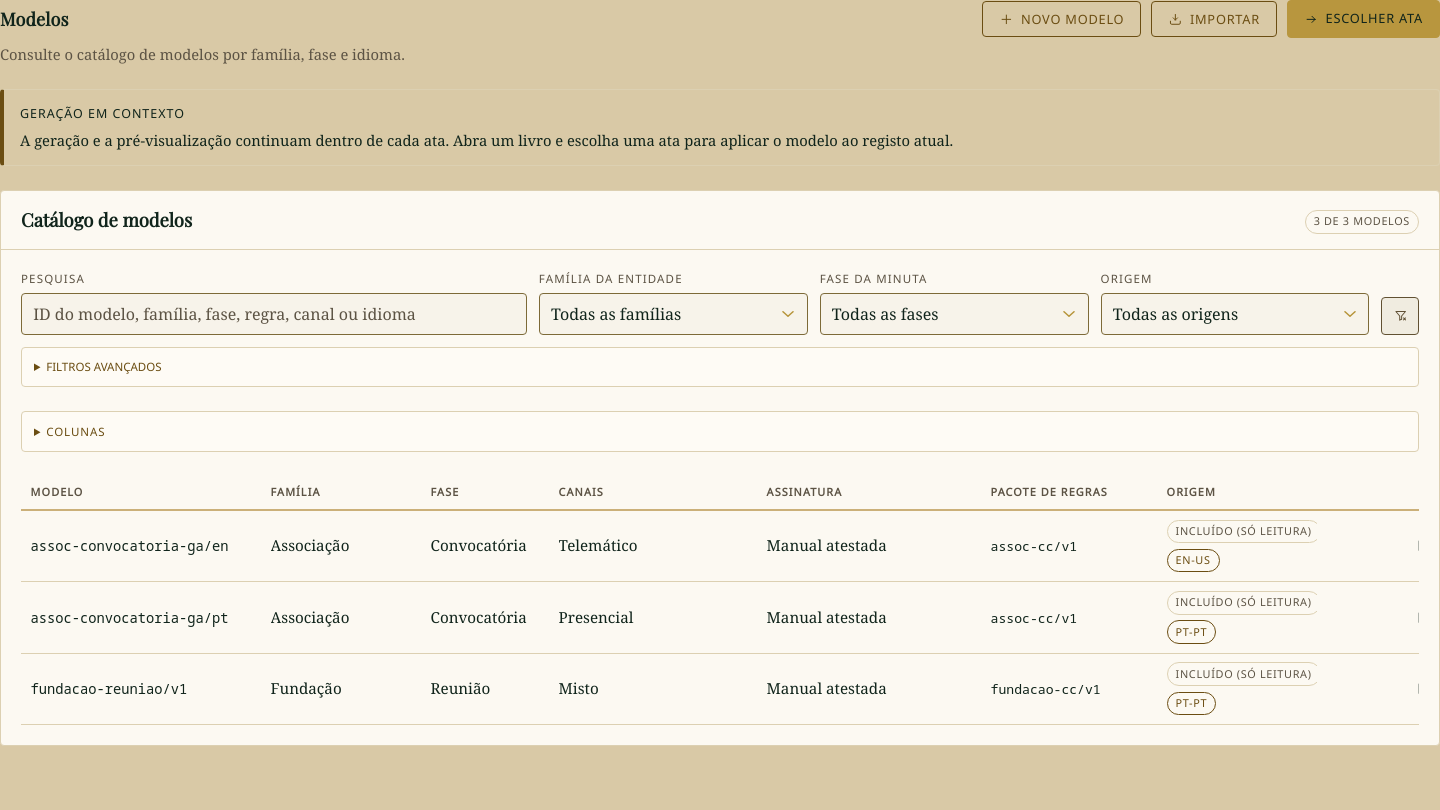
Test case: TemplatesCatalogPage › combines folded search, locale filters, empty state and clear without stale results
This screenshot has width=1440, height=810.
Check: the text "assoc-convocatoria-ga/pt" is shown, box [31,608,251,627]
Click the heading "Filtros avançados": (104, 367) [46,359,162,374]
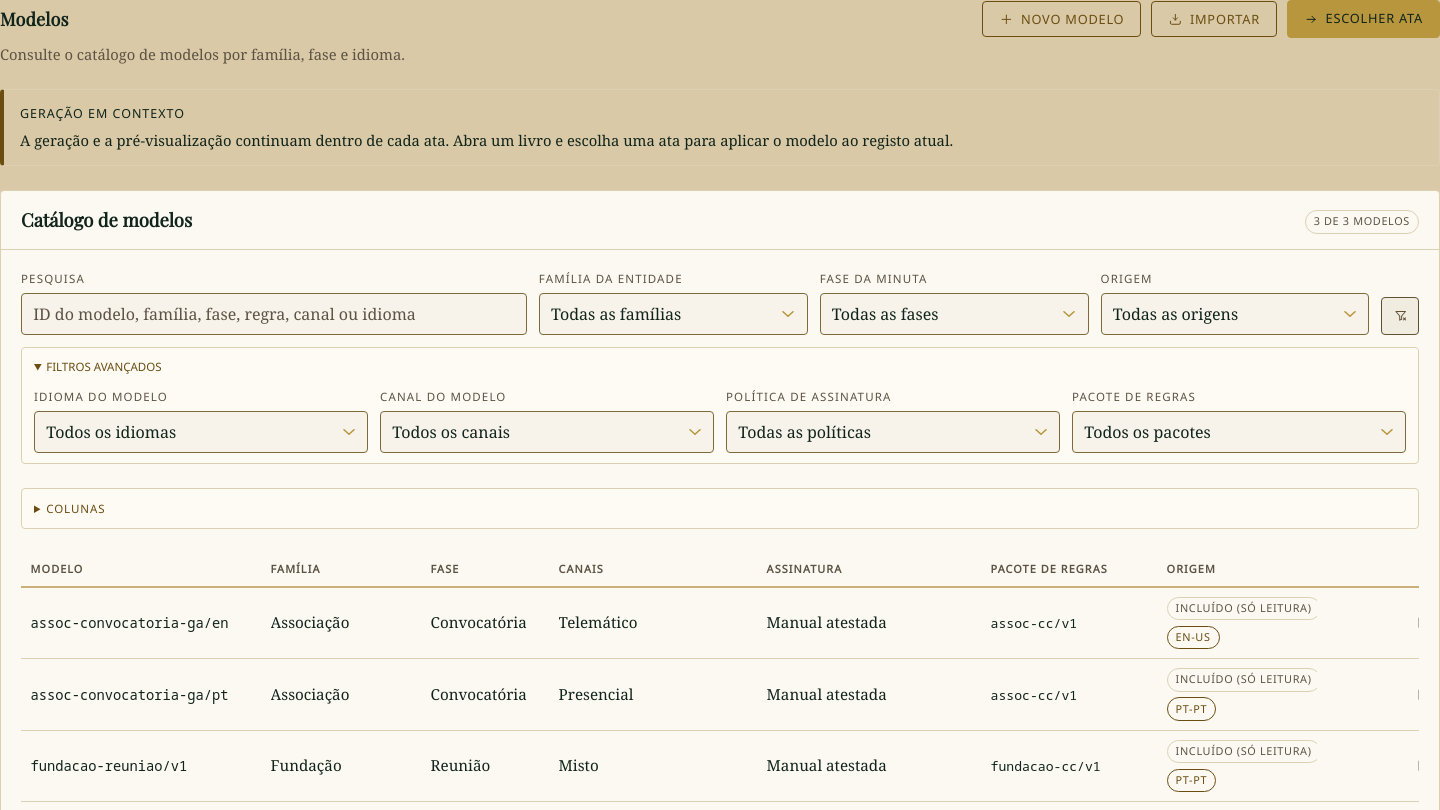
In the search field labelled "Pesquisa": (274, 314) [21,293,527,335], type "CONVOCATÓRIA"
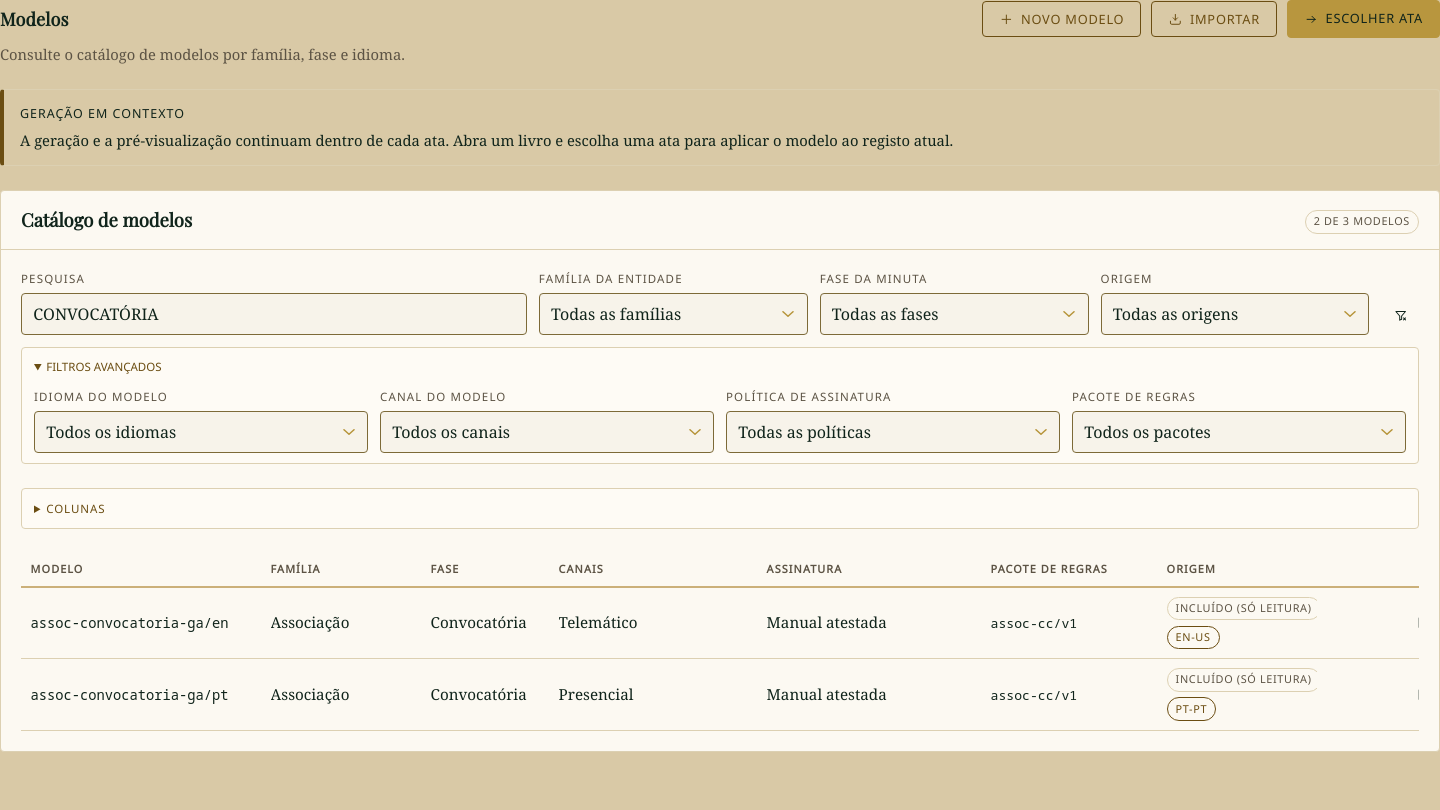
Check: the text "assoc-convocatoria-ga/pt" is shown, box [31,685,251,704]
Check: the text "2 de 3 modelos" is shown, box [1305,210,1419,234]
Check: the link "fundacao-reuniao/v1" is gone
Select "assoc-cc/v1" in the dropdown labelled "Pacote de regras": (1239, 432) [1072,411,1406,453]
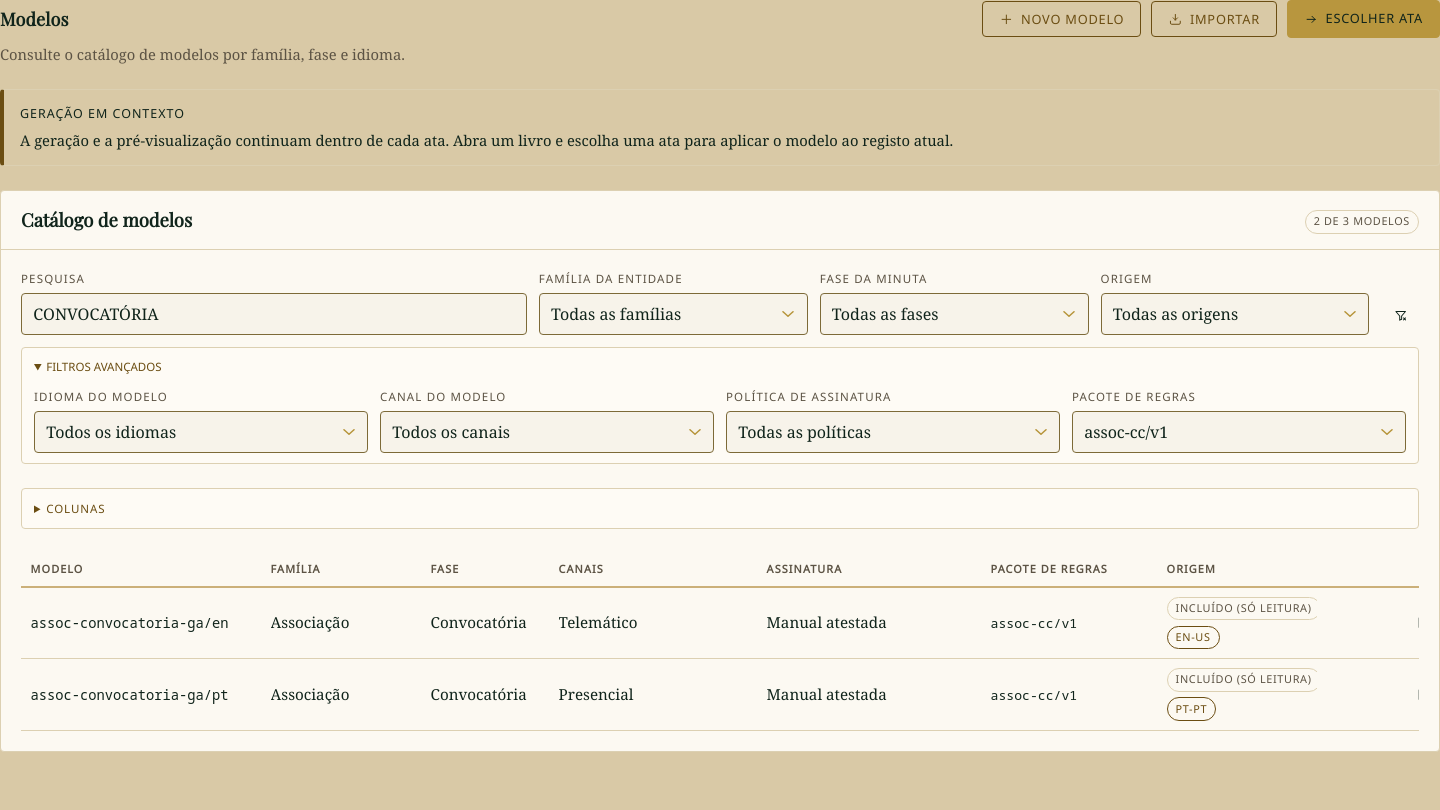
Check: the link "fundacao-reuniao/v1" is not shown
Check: the text "2 de 3 modelos" is shown, box [1305,210,1419,234]
Select "en-US" in the dropdown labelled "Idioma do modelo": (201, 432) [34,411,368,453]
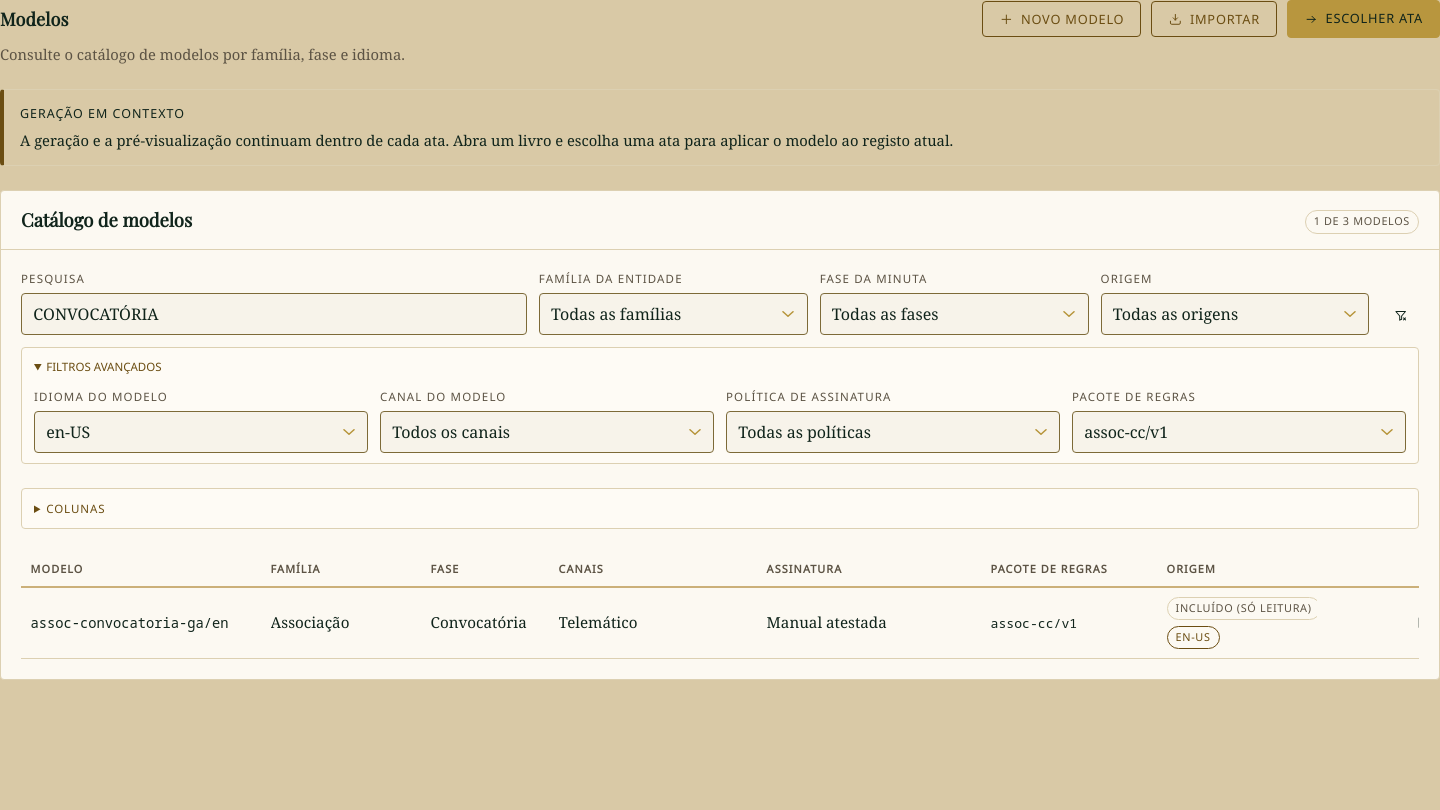
Check: the text "assoc-convocatoria-ga/en" is shown, box [31,613,251,633]
Check: the text "1 de 3 modelos" is shown, box [1305,210,1419,234]
Check: the link "assoc-convocatoria-ga/pt" is gone
Replace the text in the search field labelled "Pesquisa" with "sem resultado": (274, 314) [21,293,527,335]
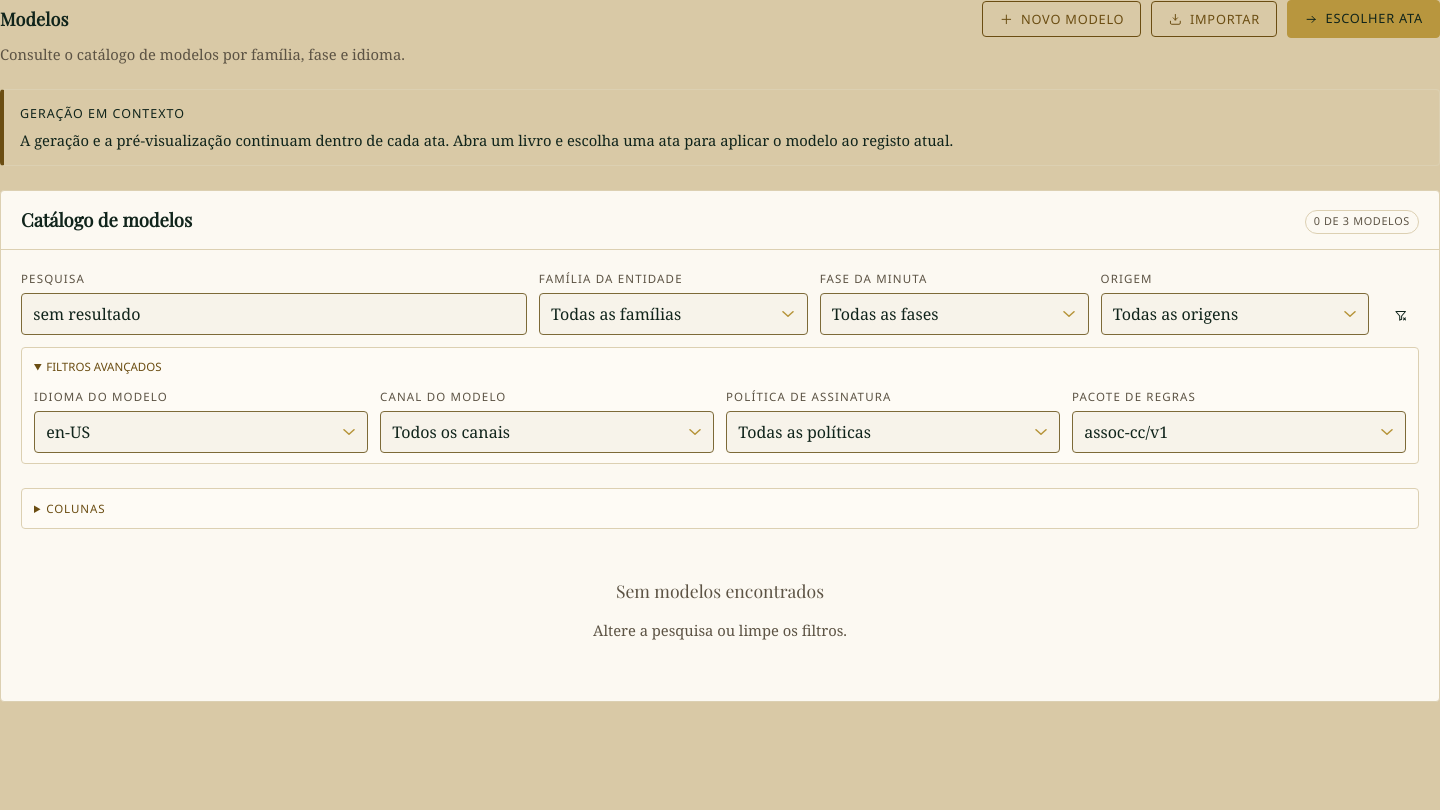
Check: the text "Sem modelos encontrados" is shown, box [616,579,824,602]
Check: the text "0 de 3 modelos" is shown, box [1305,210,1419,234]
Click the button named "Limpar pesquisa e filtros": (1400, 316) [1381,297,1419,335]
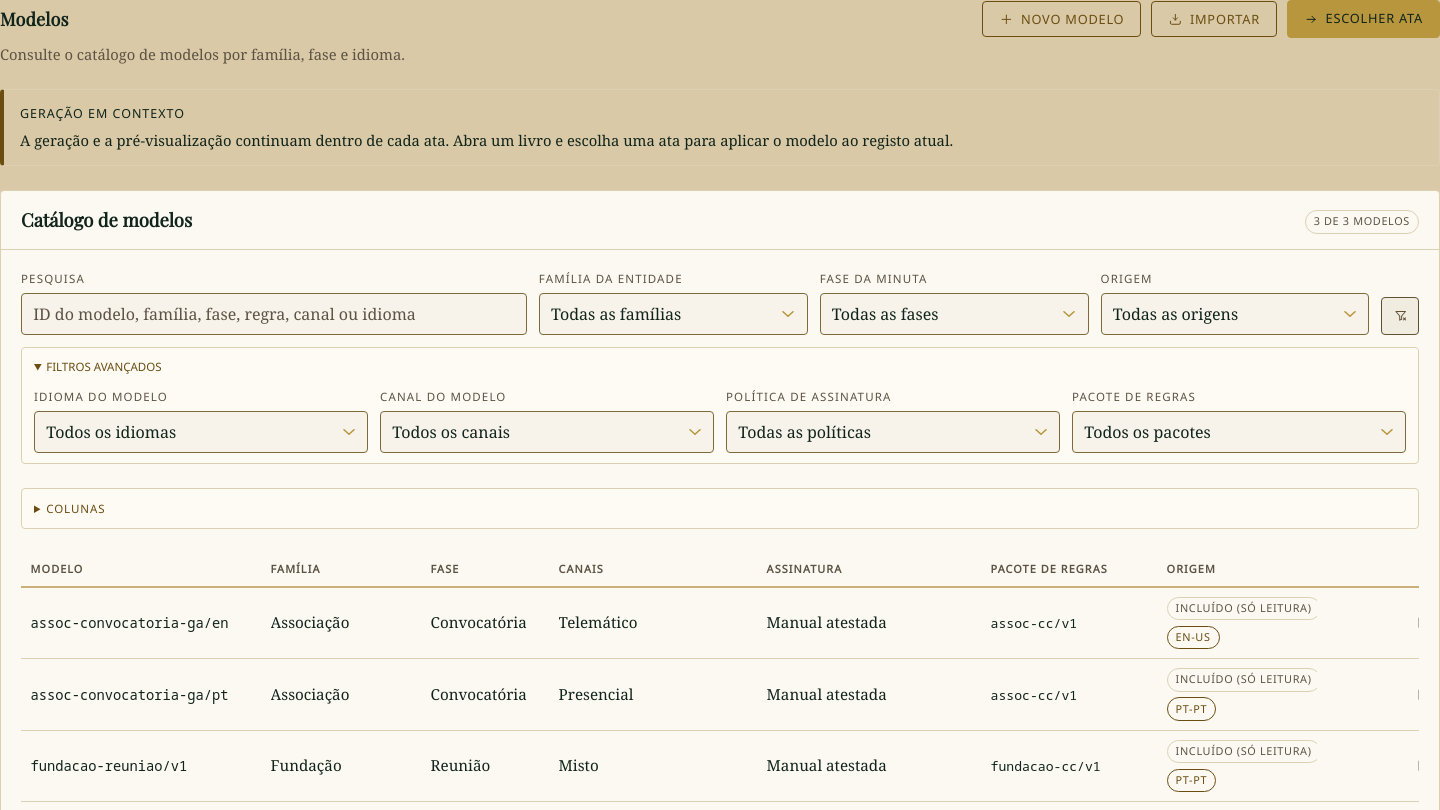
Check: the text "fundacao-reuniao/v1" is shown, box [31,756,187,775]
Check: the text "3 de 3 modelos" is shown, box [1305,210,1419,234]
